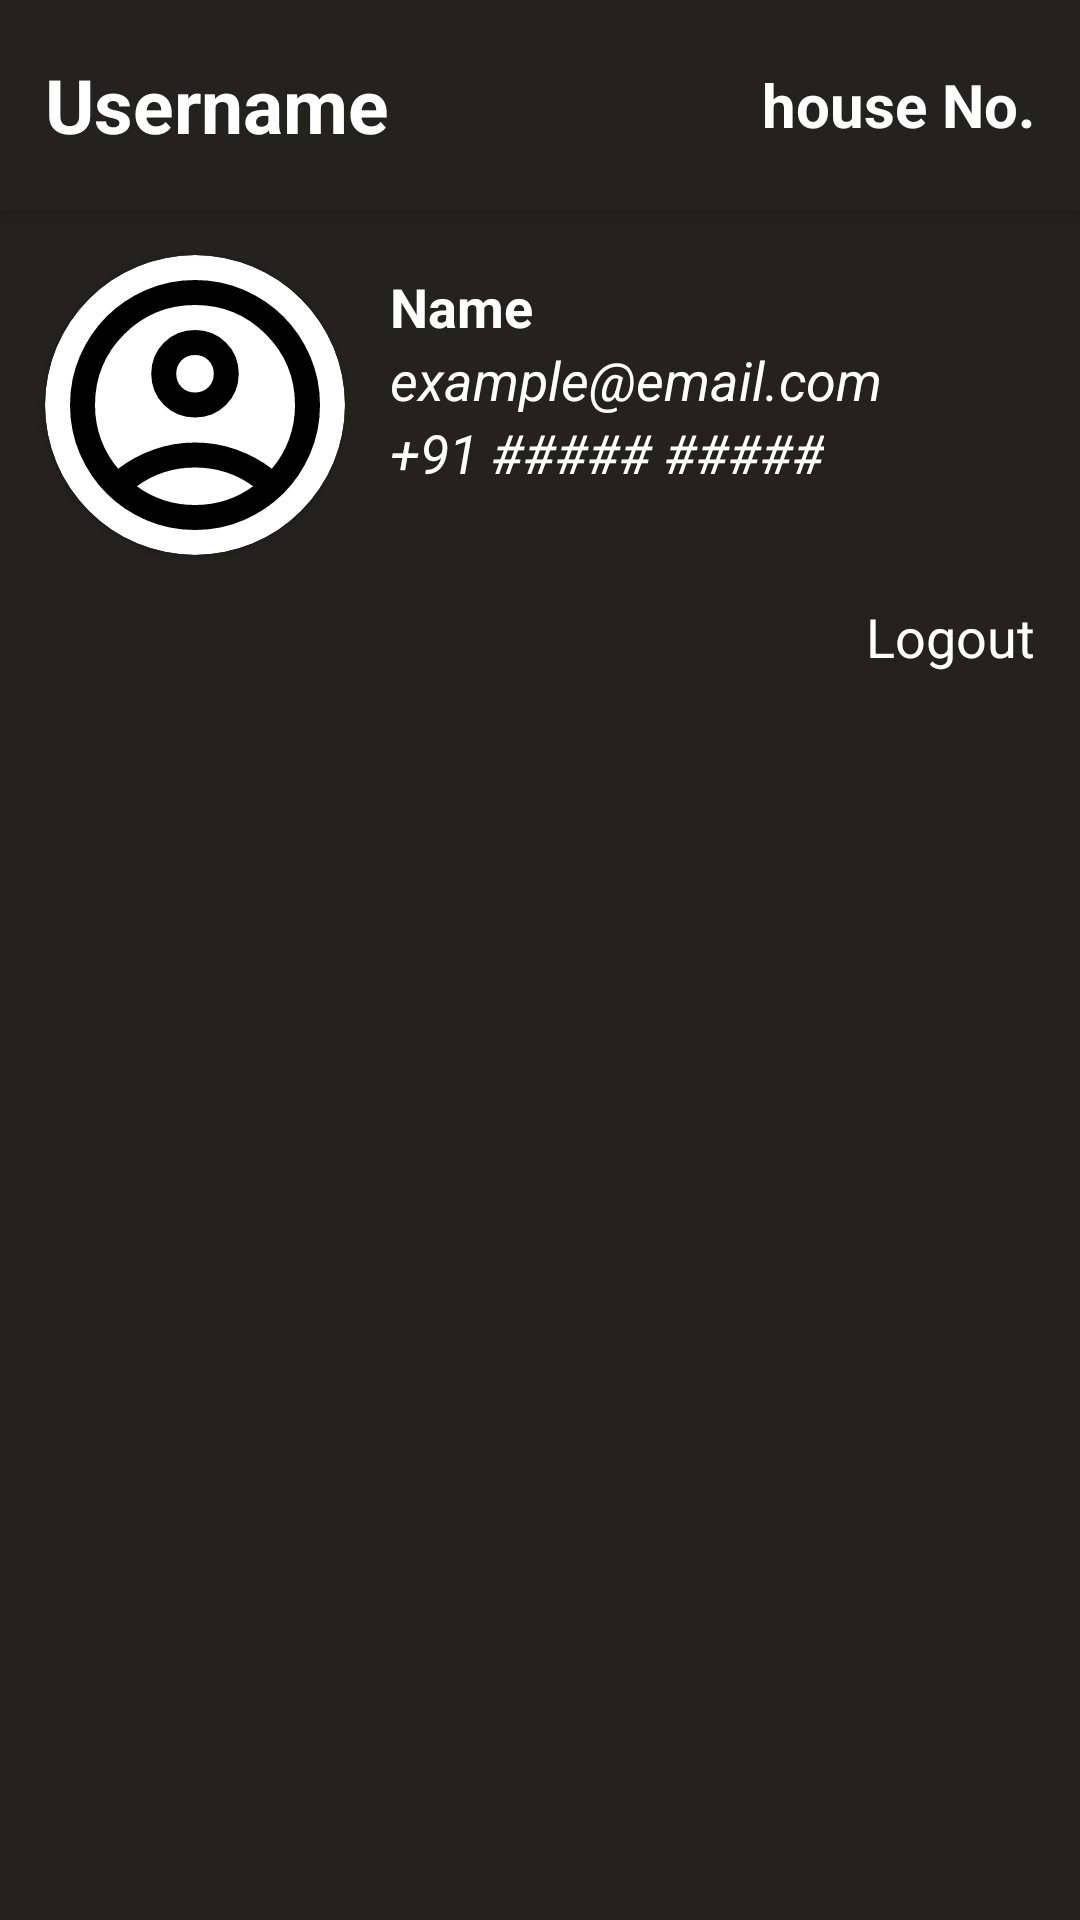

Icon click points for this 1080px x 1920px phone screenshot, format point (x, y):
profile: point (195, 405)
